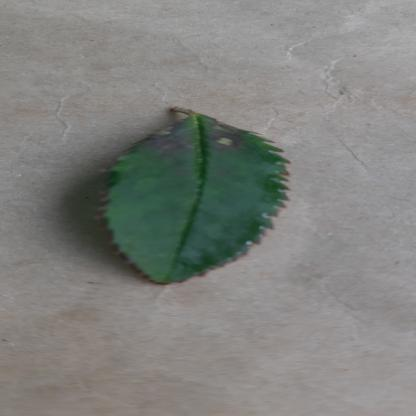powdery-mildew: (94, 116, 303, 285)
